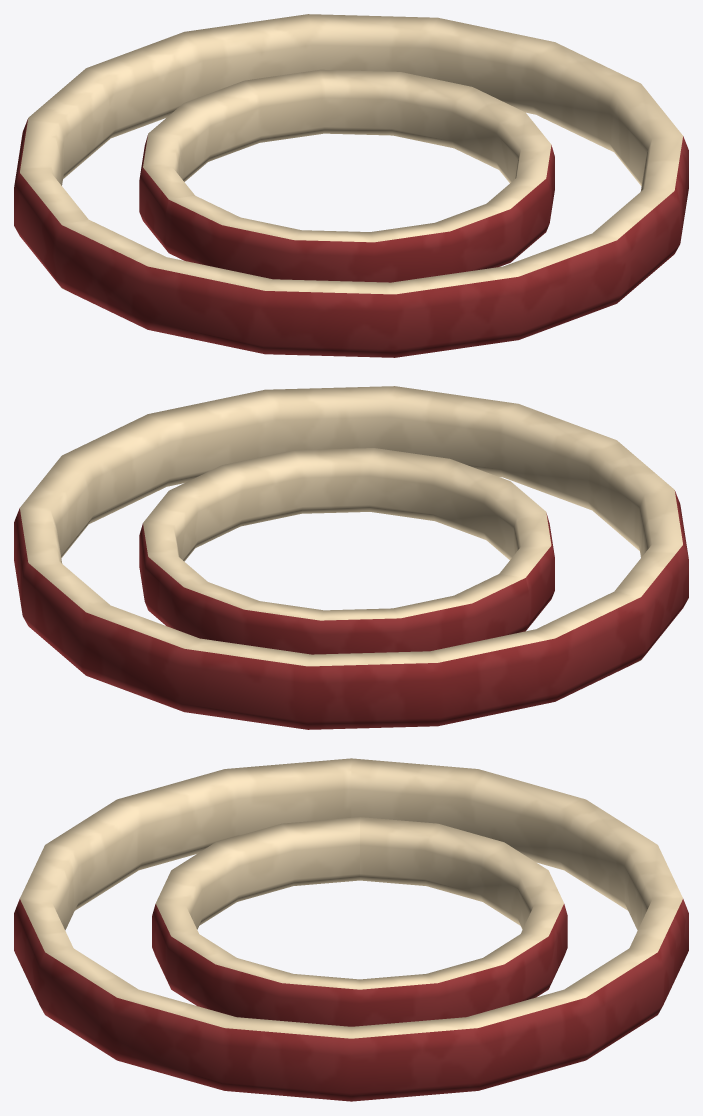
Rendered from RedOnion.fbx.
3 renders of one model, top to bottom at view 1: azimuth 30°, elevation 25°; view 2: azimuth 150°, elevation 25°; view 3: azimuth 270°, elevation 25°, orthographic.
Parts seen in each view (by area): view 1: Onion Small; view 2: Onion Small; view 3: Onion Small.
Part boxes in pixels (x1=…): Onion Small: x1=14, y1=14, x2=688, y2=357; Onion Small: x1=14, y1=386, x2=688, y2=729; Onion Small: x1=14, y1=758, x2=688, y2=1101.
Bounding box in the file's own units: 90.9 × 9.34 × 90.9.
